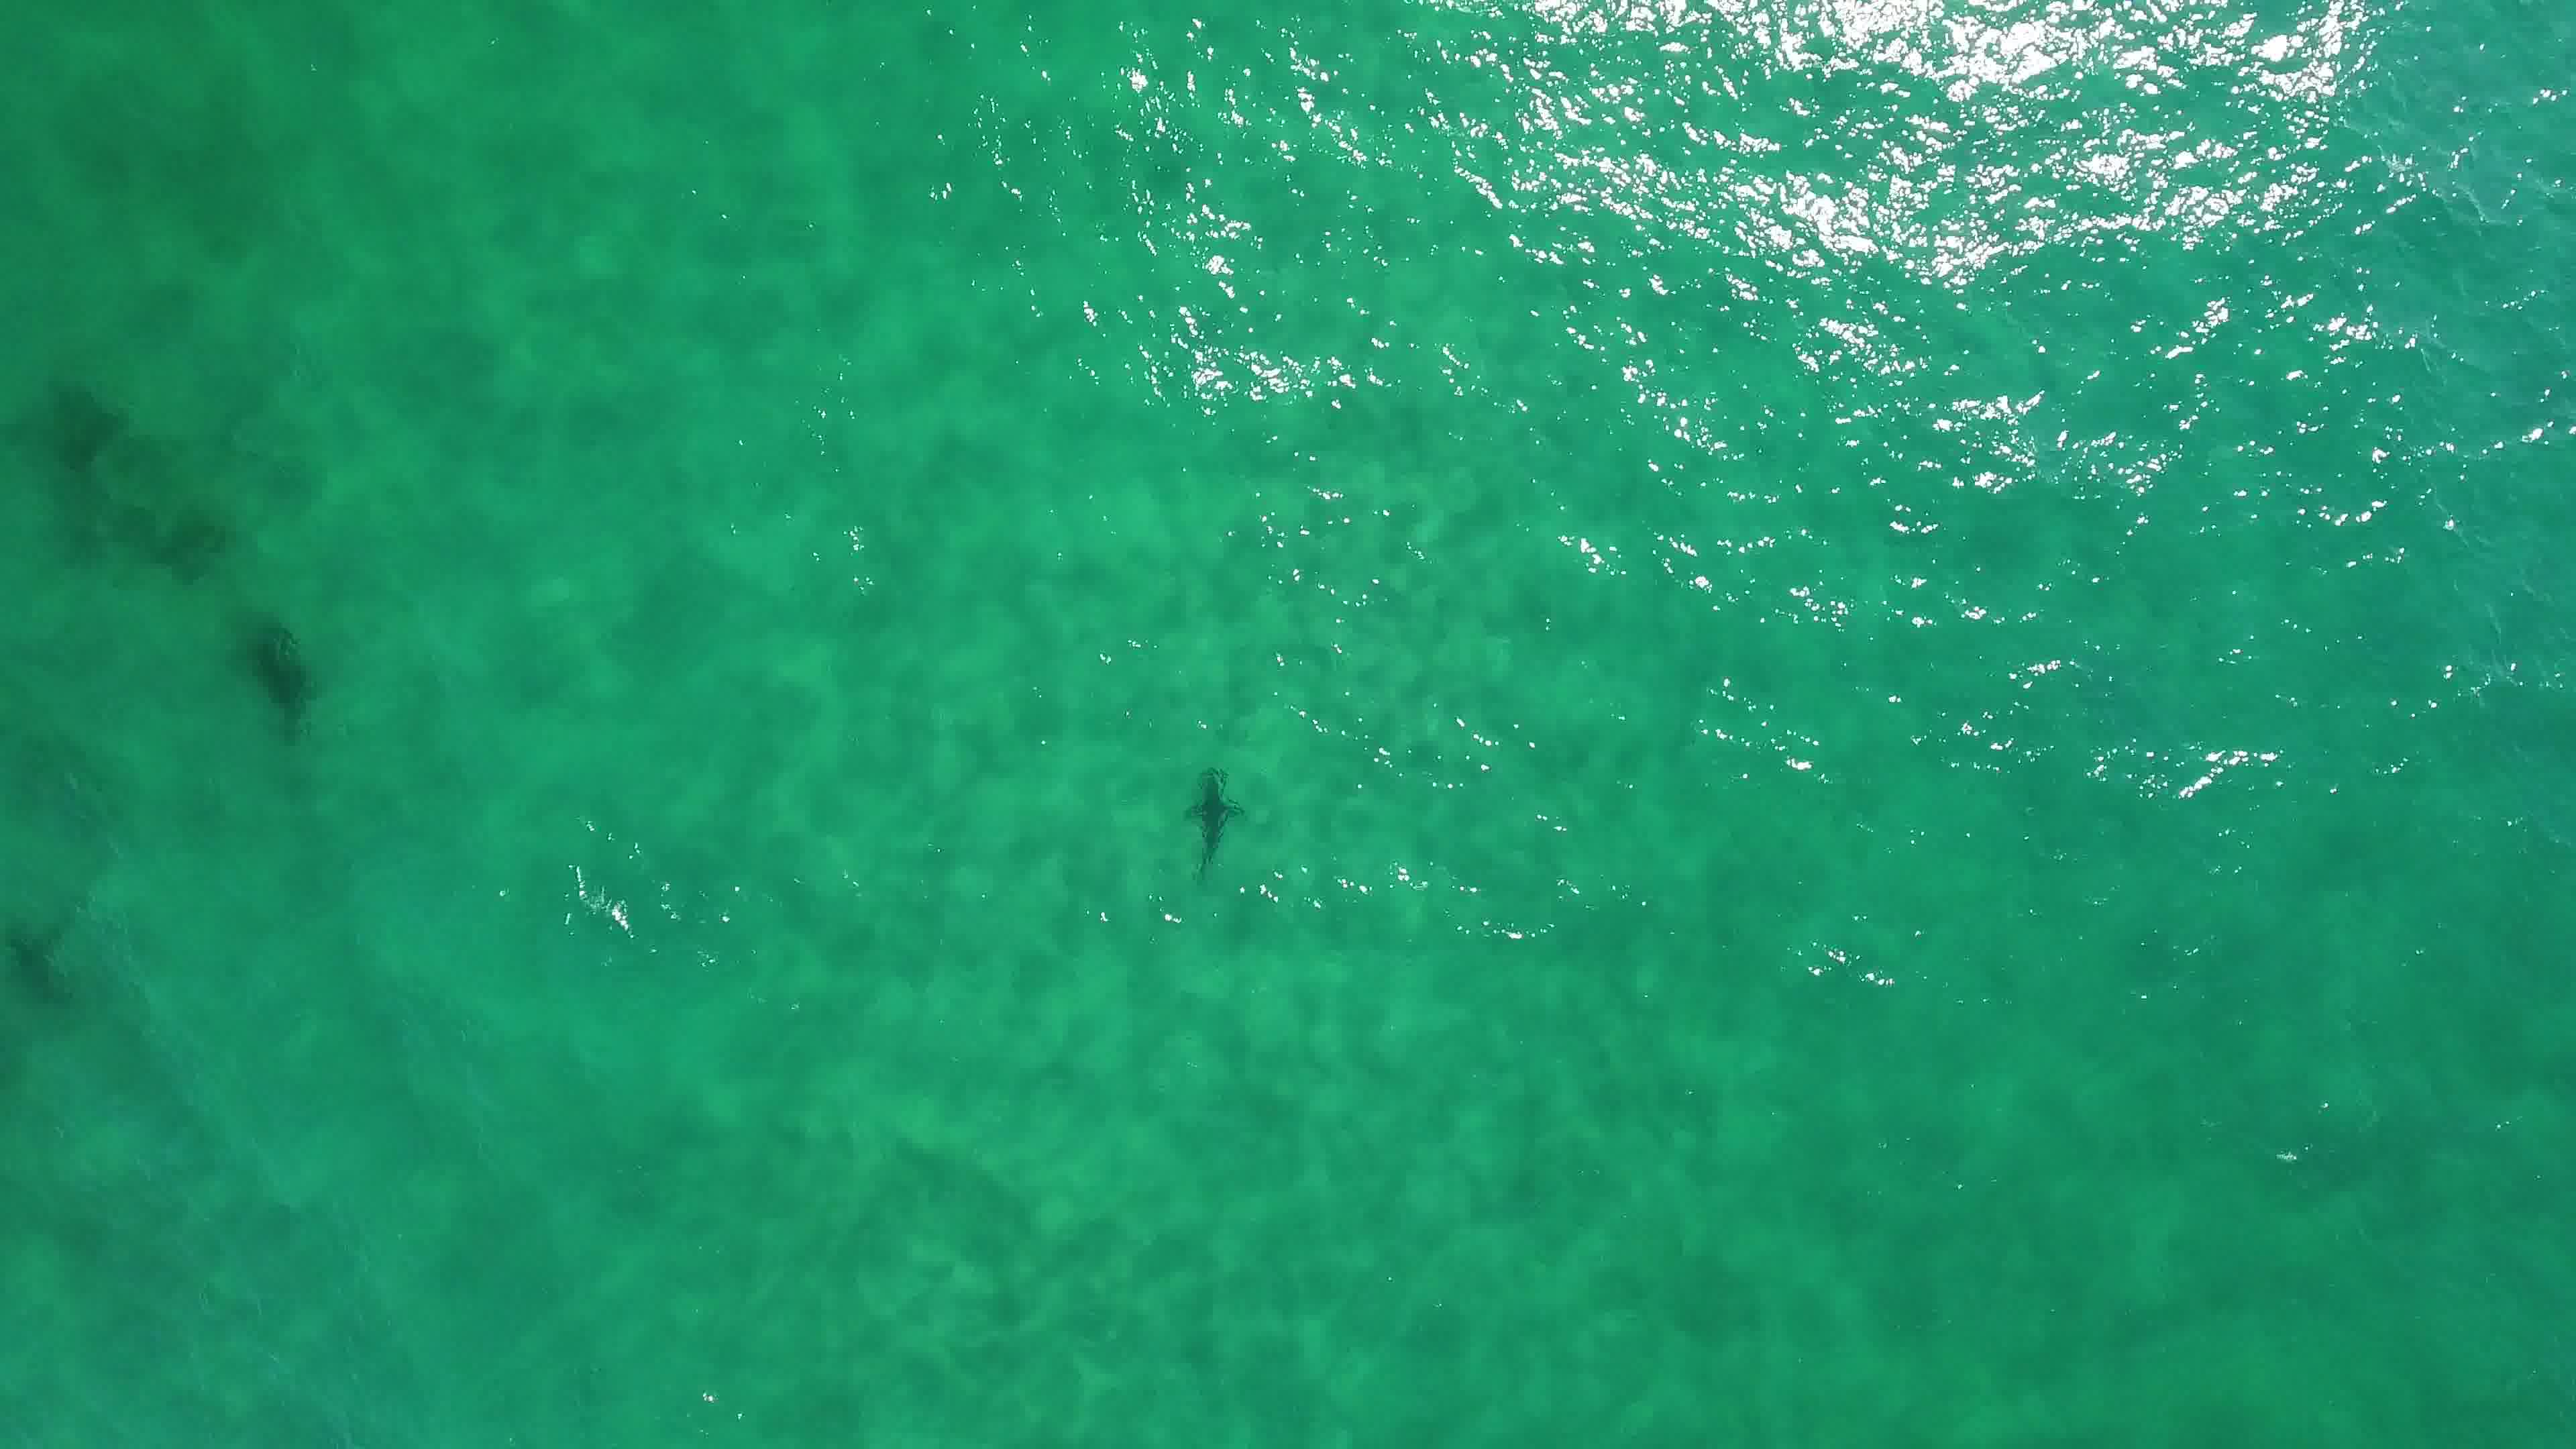shark: (1173, 763, 1251, 888)
